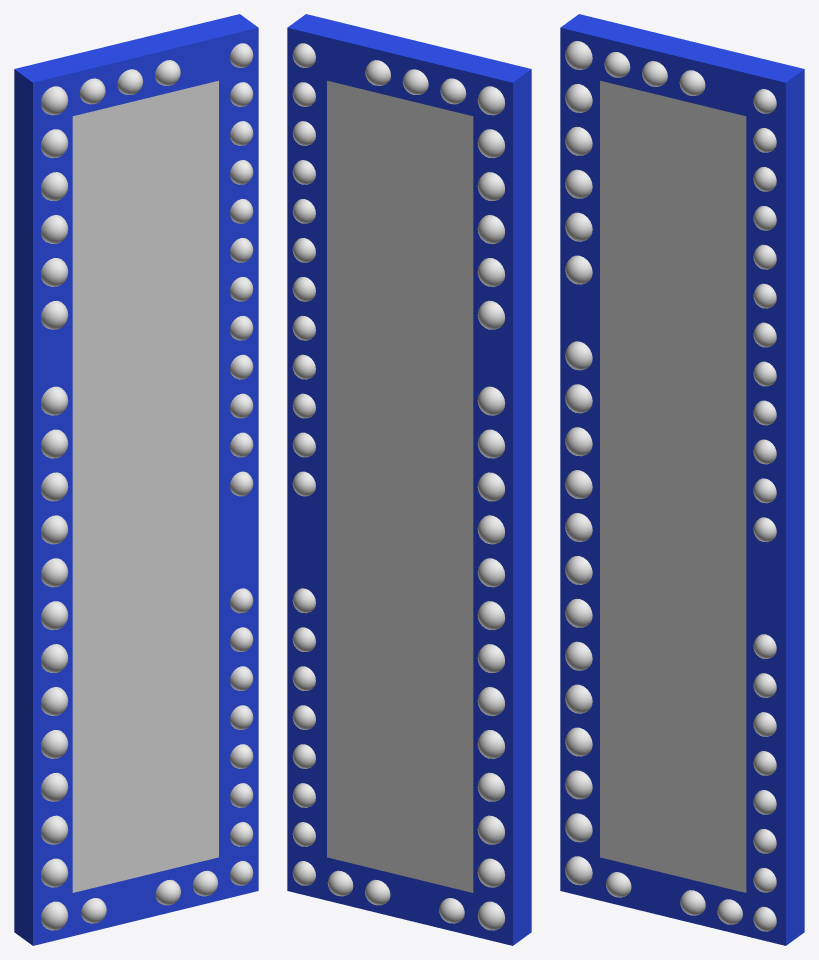
Rendered from Manga_Sign.fbx.
3 views of the same model, side by side, from view 1: azimuth 30°, elevation 25°; view 2: azimuth 150°, elevation 25°; view 3: azimuth 330°, elevation 25° (orthographic).
Parts seen in each view (by area): view 1: sign 4.002; view 2: sign 4.002; view 3: sign 4.002.
Part boxes in pixels (x1=…): sign 4.002: x1=14, y1=14, x2=258, y2=945; sign 4.002: x1=287, y1=14, x2=531, y2=945; sign 4.002: x1=560, y1=14, x2=804, y2=945.
Bounding box in the file's own units: 157 × 572 × 41.73.
